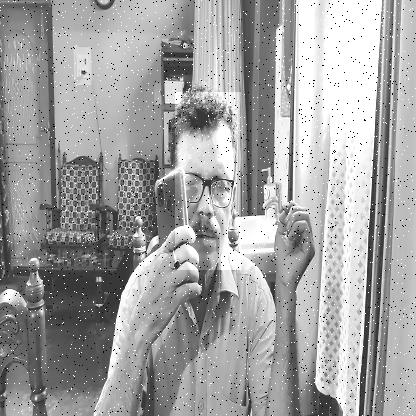Normal: (175, 92, 241, 270)
